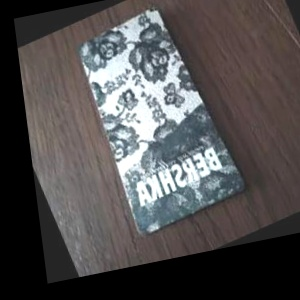bershka: (169, 52, 283, 235)
